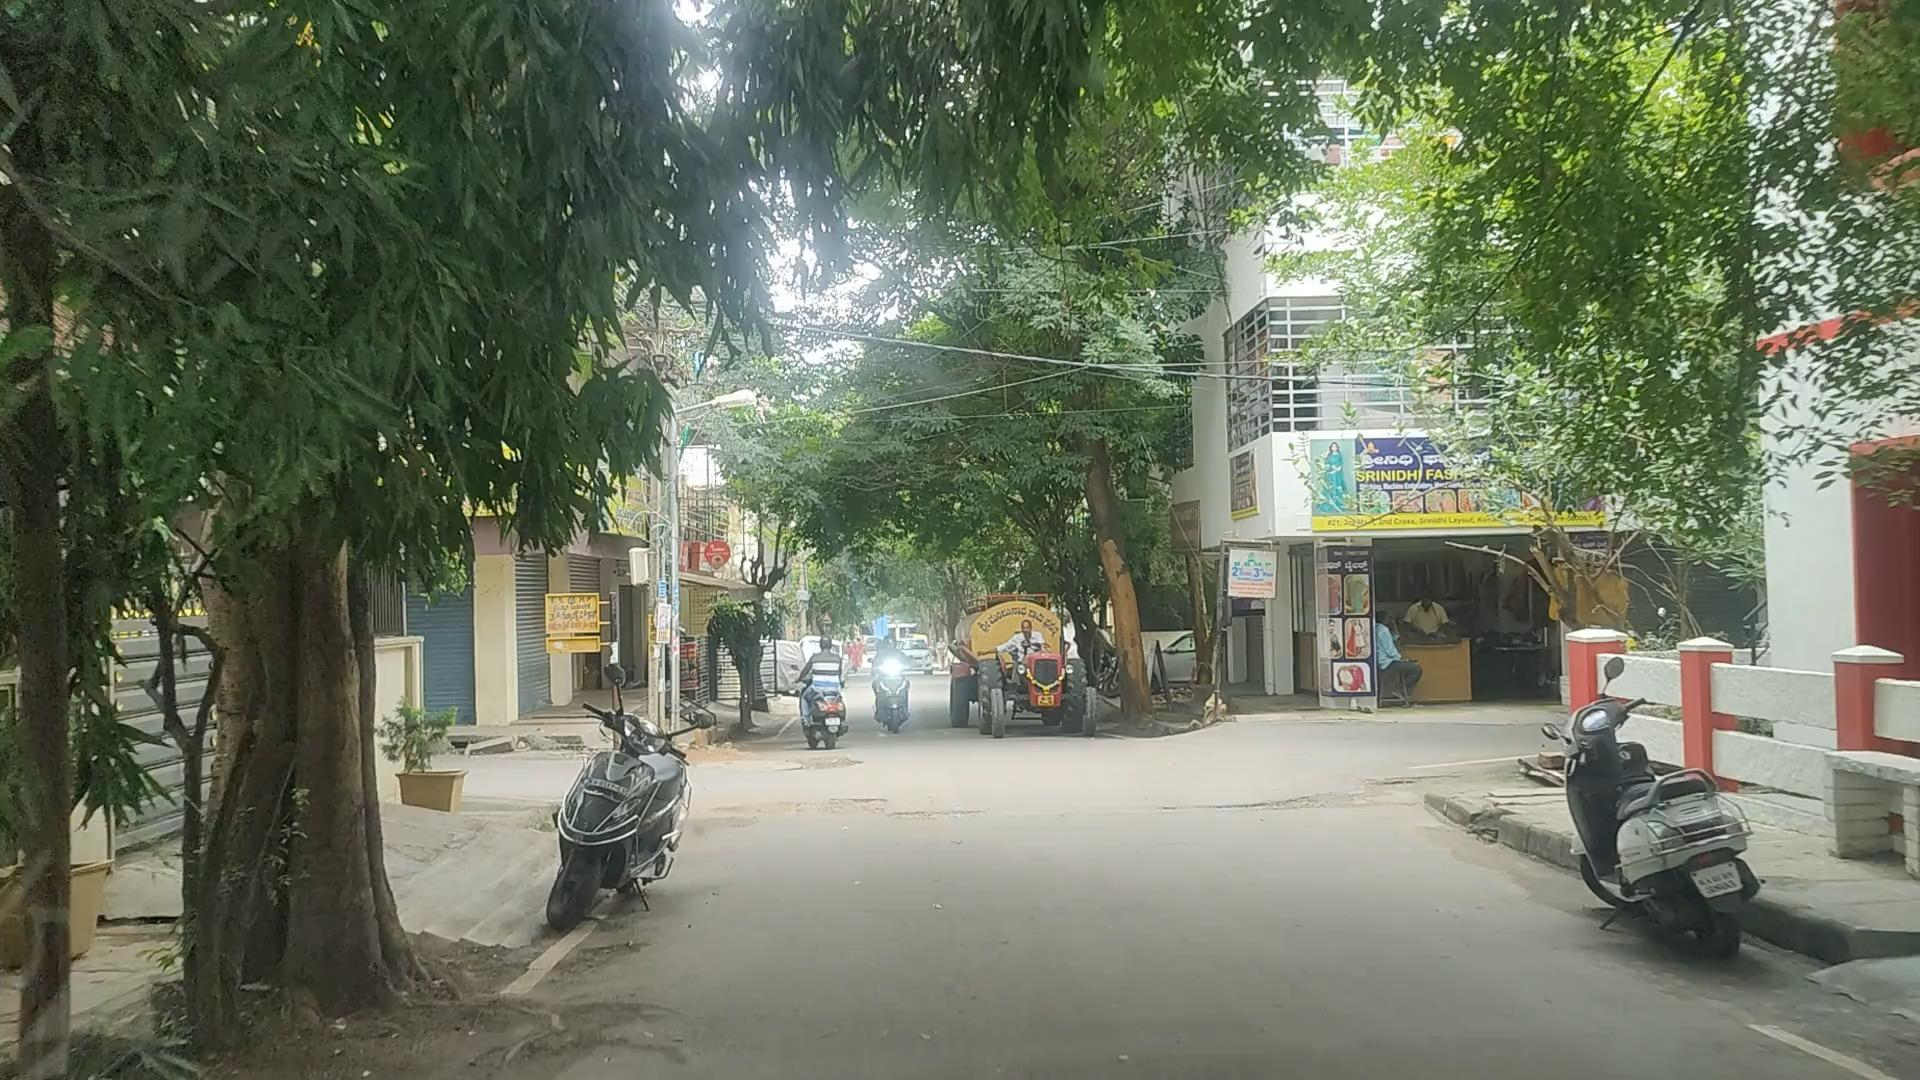HMV: (926, 575, 1116, 735)
LMV: (1545, 695, 1782, 960), (521, 630, 703, 971), (786, 621, 865, 752)
RoadDamages: (773, 783, 996, 852), (1142, 781, 1433, 832)
